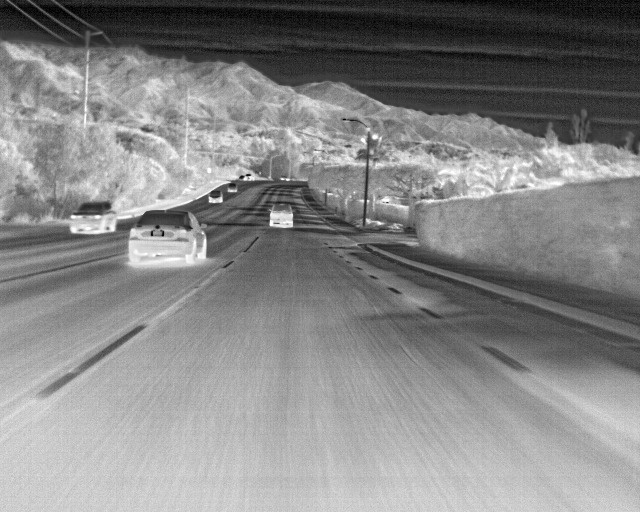vehicle: (128, 210, 209, 265), (70, 201, 117, 236), (269, 201, 294, 228), (209, 189, 222, 205)
